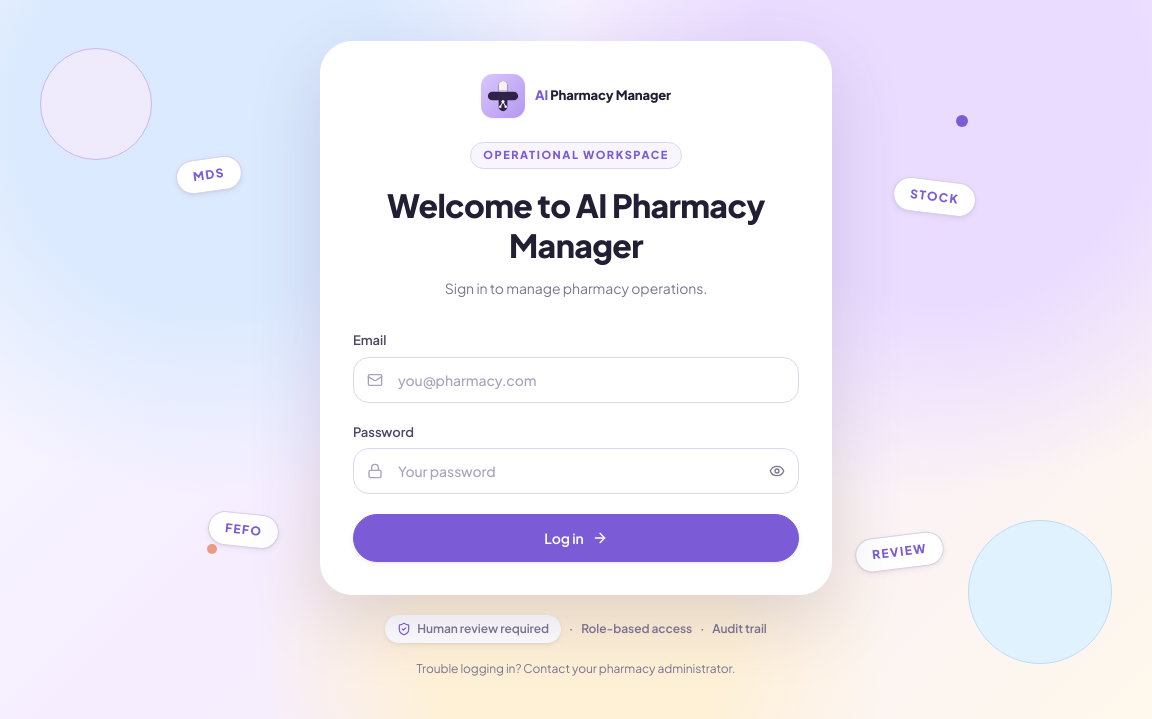
Test: LoginScreen › failed login shows generic error
The image size is (1152, 719).
In the field labelled "Email": x=576, y=380 [353, 357, 799, 403], type "admin@example.com"
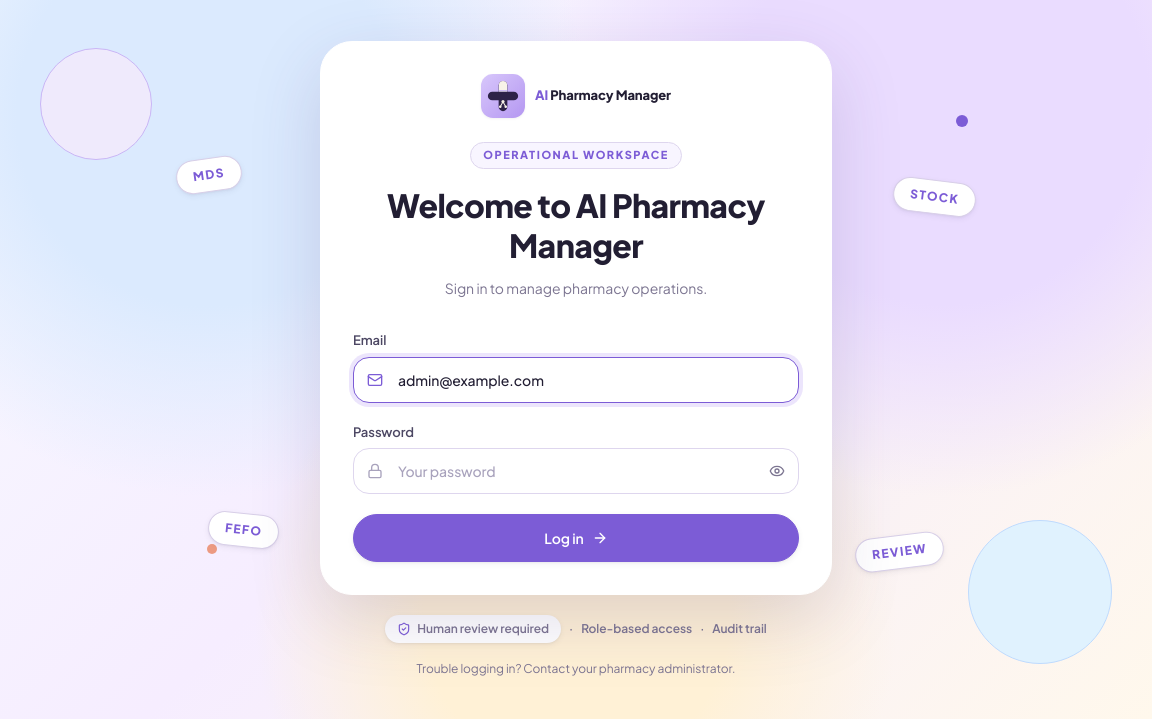
In the password field labelled "Password": x=576, y=471 [353, 448, 799, 494], type "wrong-password"
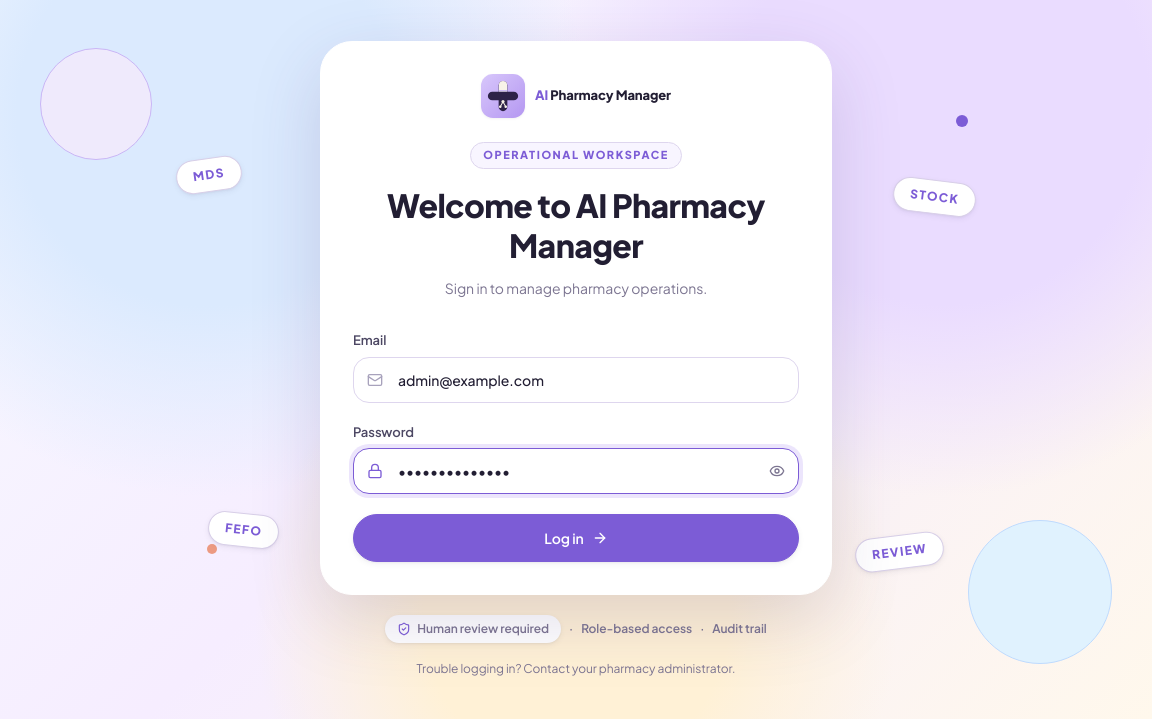
Click the button "Log in": x=576, y=538 [353, 514, 799, 562]
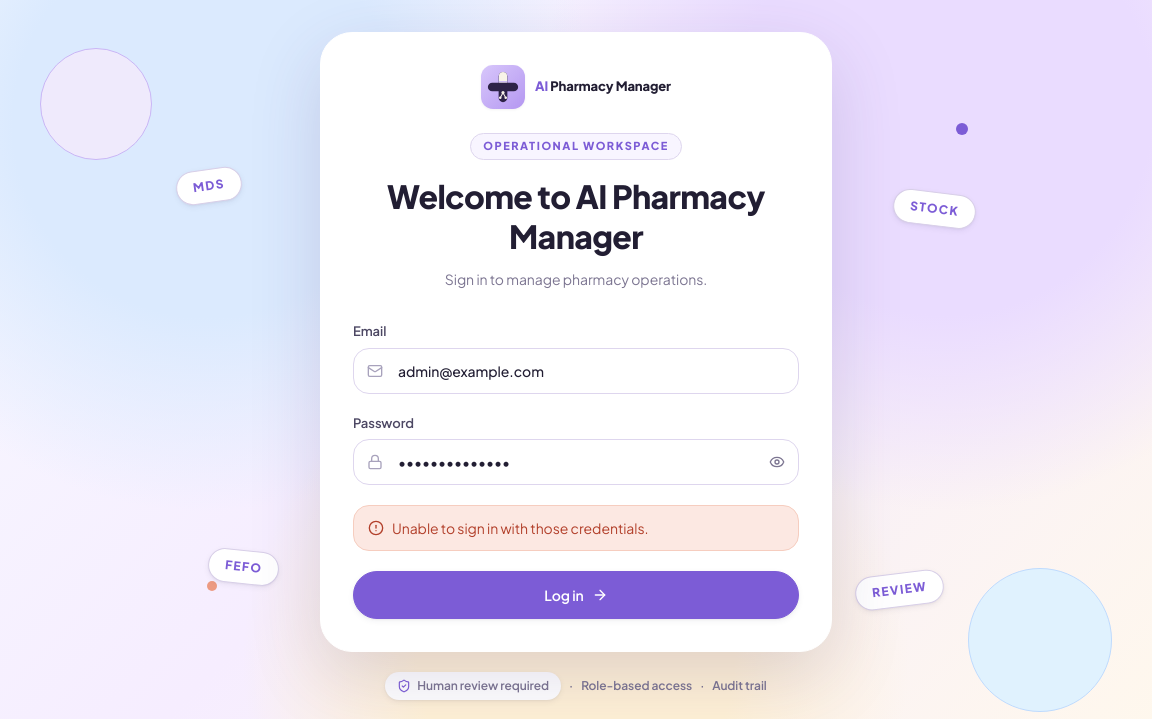
expect the text "Unable to sign in with those credentials." is shown: met, box [392, 518, 648, 538]
